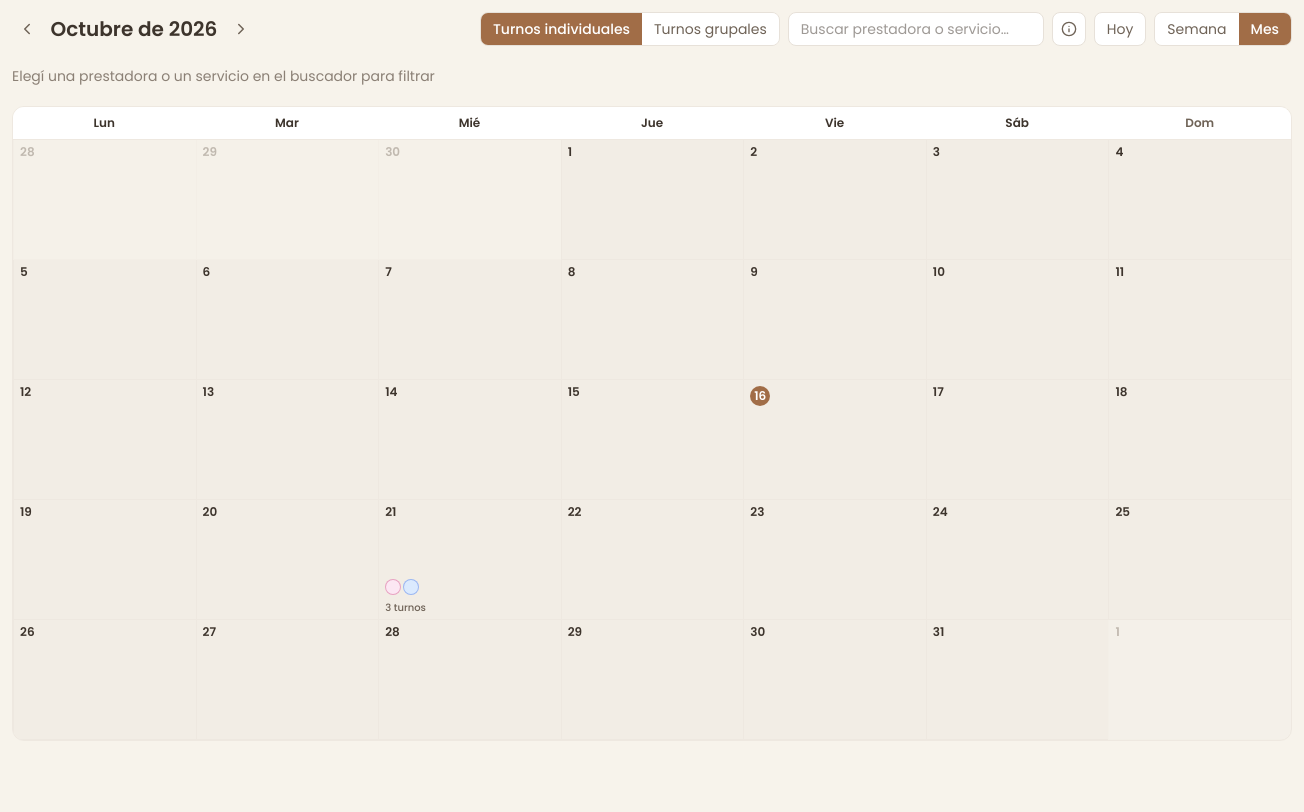
Test: MonthViewPage — filtros múltiples › pasar el mouse por el punto de una prestadora muestra sus turnos del día, uno por línea y por hora
Hover over the element with test id "punto-2026-10-21-p1".
mouse_move(393, 587)  # box [385, 579, 401, 595]
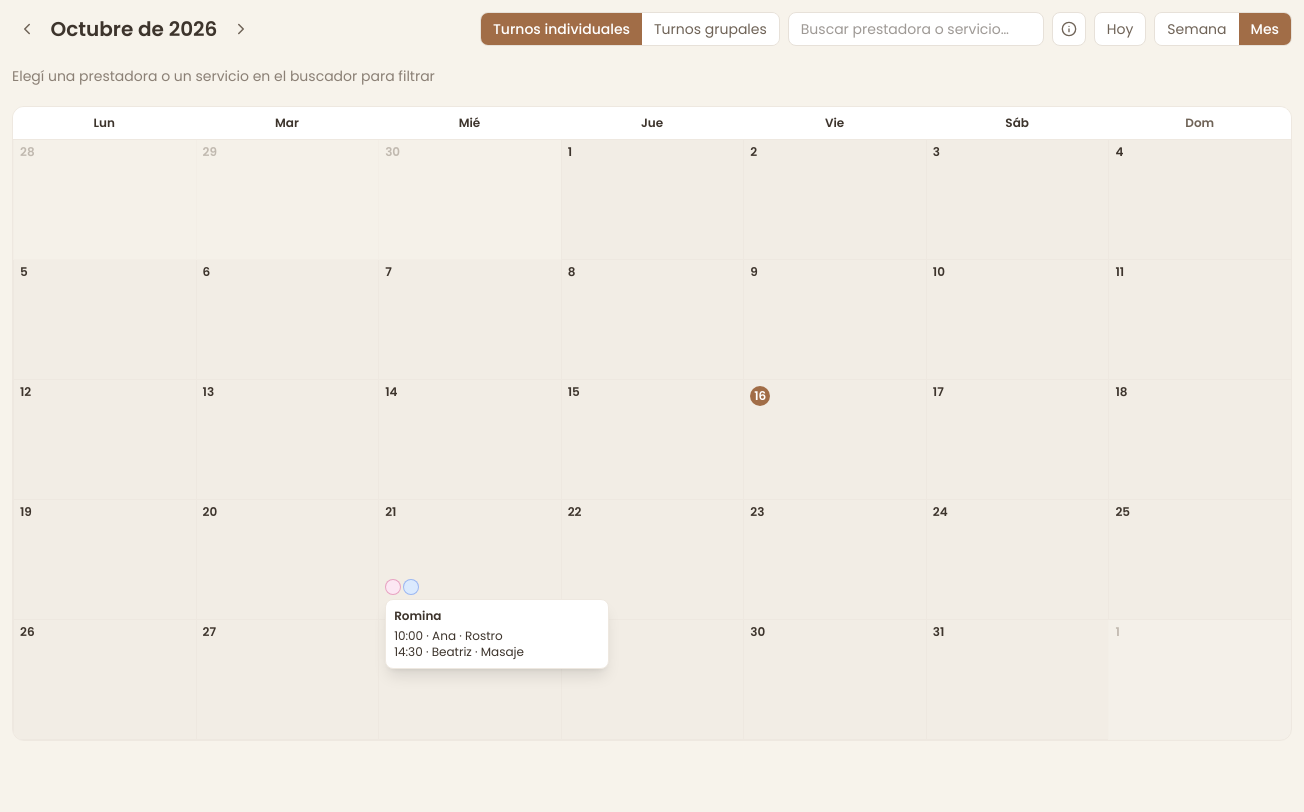
Expected: the text "Romina" is shown, [394, 607, 441, 624]
Expected: the elements with test id "linea-de-turno" read "10:00 · Ana · Rostro", "14:30 · Beatriz · Masaje", in this order, [394, 627, 503, 644]; [394, 643, 524, 660]
Move the pointer off the element with test id "punto-2026-10-21-p1", box [385, 579, 401, 595]
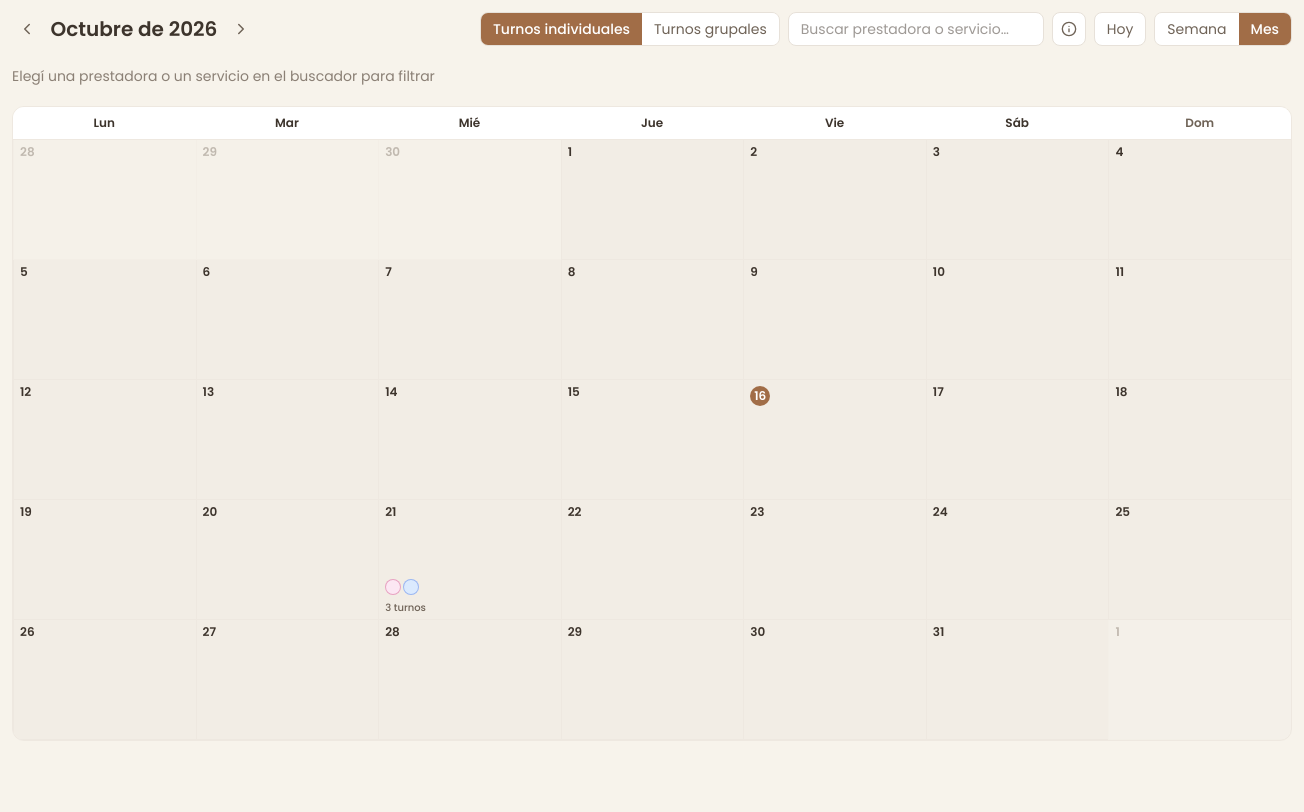
Expected: the tooltip "Romina 10:00 · Ana · Rostro 14:30 · Beatriz · Masaje" is gone
